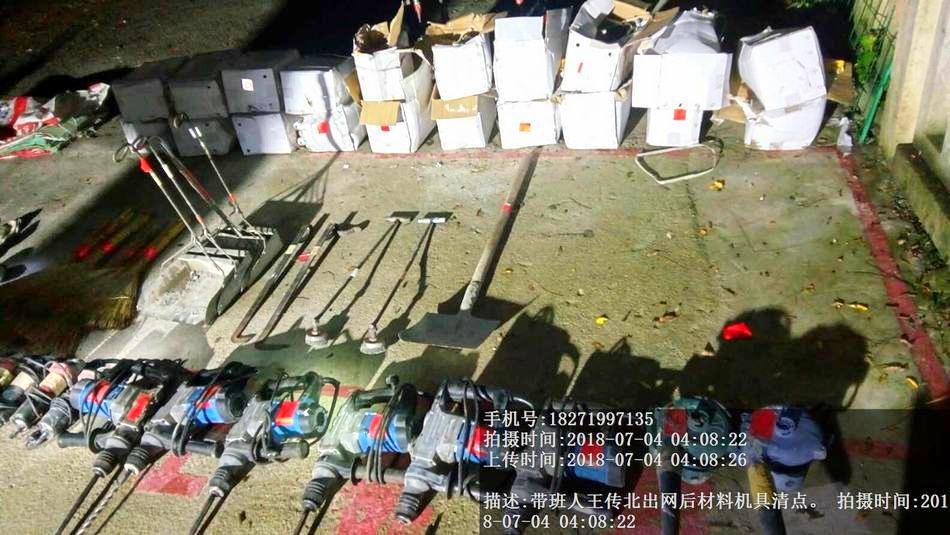DZ: (208, 373, 323, 518), (300, 388, 413, 512), (122, 376, 227, 489), (57, 376, 142, 491)
TQ: (411, 146, 538, 349)
